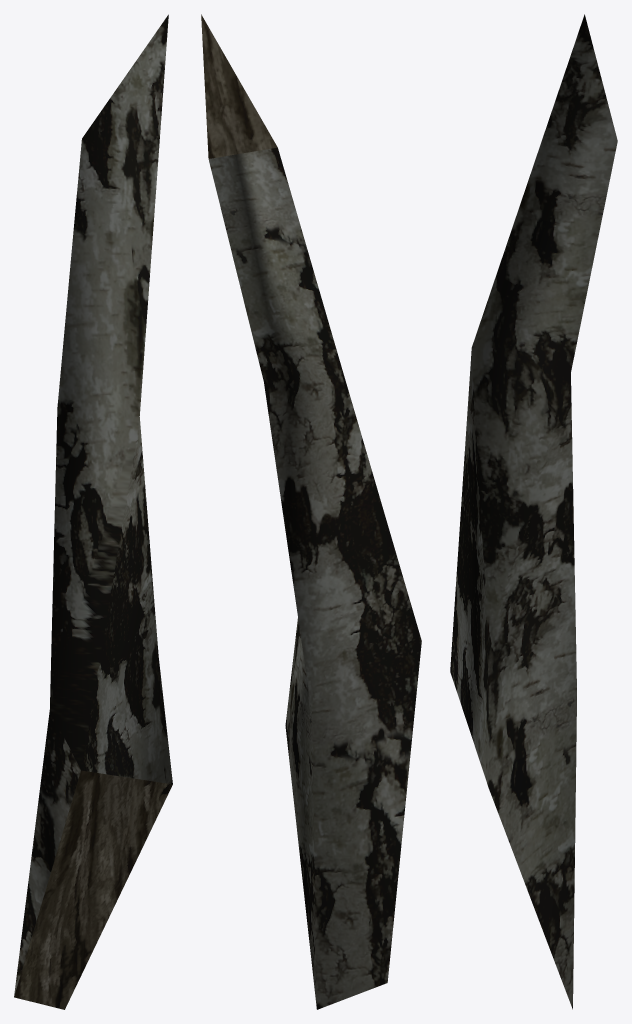
The model's file is MEP_BrokenBirch_04.fbx.
The picture shows the model from 3 angles, left to right: view 1: azimuth 30°, elevation 25°; view 2: azimuth 150°, elevation 25°; view 3: azimuth 270°, elevation 25°; orthographic projection. The views are drawn at different scales.
Parts seen in each view (by area): view 1: MEP_BrokenBirch_04; view 2: MEP_BrokenBirch_04; view 3: MEP_BrokenBirch_04.
Part boxes in pixels (<box>): MEP_BrokenBirch_04: <box>14,14,172,1009</box>; MEP_BrokenBirch_04: <box>201,14,421,1009</box>; MEP_BrokenBirch_04: <box>450,14,617,1009</box>.
Size of the model in its own units: 0.9277 by 5.04 by 0.7255.
Materials: 1 (1 with a texture image).
